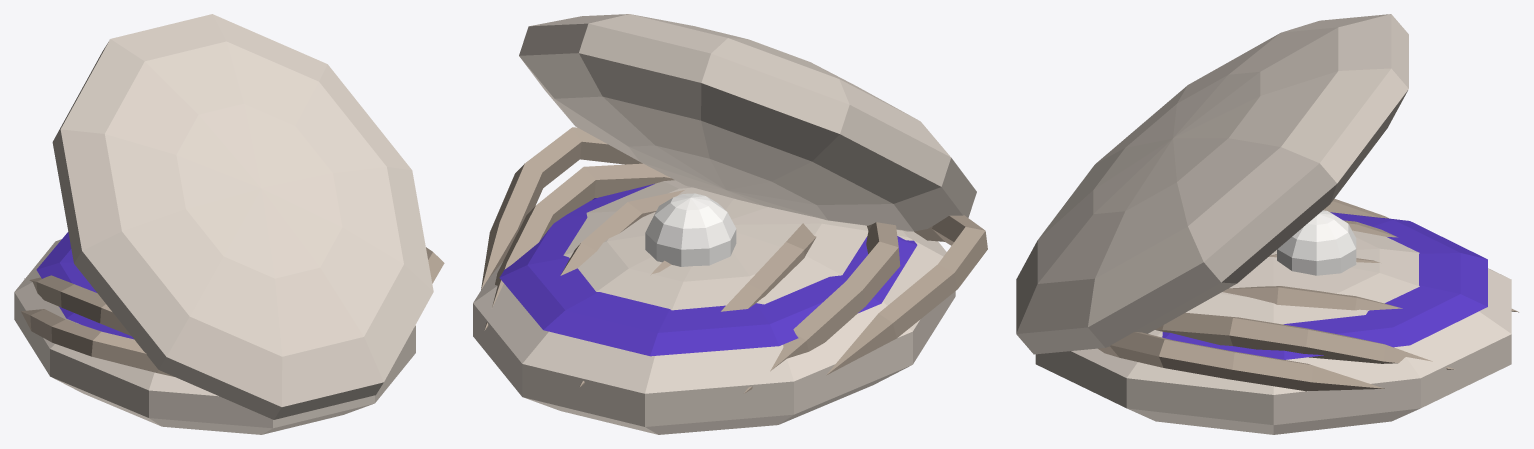
Rendered from GiantClam.glb.
The picture shows the model from 3 angles, left to right: view 1: azimuth 30°, elevation 25°; view 2: azimuth 150°, elevation 25°; view 3: azimuth 270°, elevation 25°; orthographic projection. The views are drawn at different scales.
Visible parts, largest first — view 1: GiantClam; view 2: GiantClam; view 3: GiantClam.
Boxes of the visible parts, x1=… form: GiantClam: x1=14, y1=14, x2=444, y2=434; GiantClam: x1=473, y1=14, x2=987, y2=434; GiantClam: x1=1016, y1=14, x2=1519, y2=434.
Bounding box in the file's own units: 2.17 × 1.8 × 2.35.
1 material, 1 textured.
